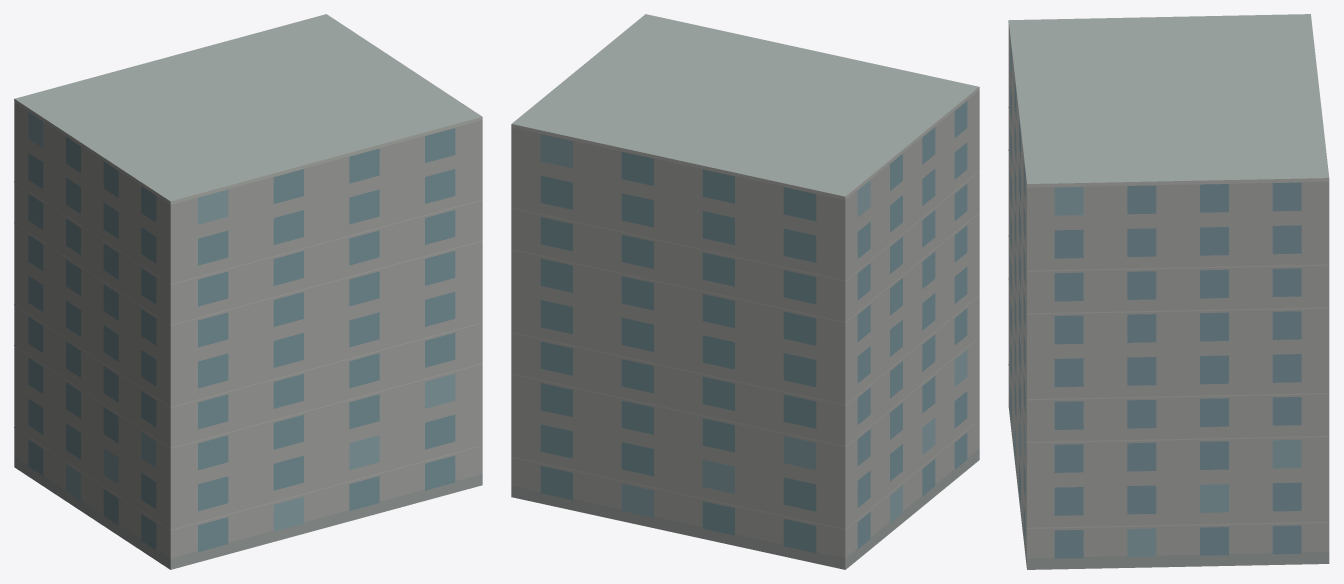
The model's file is residential-e6fe0964-aaa6-416b-8206-7c11b944d46a.glb.
3 views of the same model, side by side, from view 1: azimuth 30°, elevation 25°; view 2: azimuth 150°, elevation 25°; view 3: azimuth 270°, elevation 25° (orthographic). The views are drawn at different scales.
Parts seen in each view (by area): view 1: residential-e6fe0964-aaa6-416b-8206-7c11b944d46a.tmp; view 2: residential-e6fe0964-aaa6-416b-8206-7c11b944d46a.tmp; view 3: residential-e6fe0964-aaa6-416b-8206-7c11b944d46a.tmp.
Boxes of the visible parts, x1,y1,x2,y2 form: residential-e6fe0964-aaa6-416b-8206-7c11b944d46a.tmp: (14, 14, 482, 569); residential-e6fe0964-aaa6-416b-8206-7c11b944d46a.tmp: (511, 14, 979, 569); residential-e6fe0964-aaa6-416b-8206-7c11b944d46a.tmp: (1008, 14, 1329, 569).
Bounding box in the file's own units: 24.61 × 26 × 19.61.
